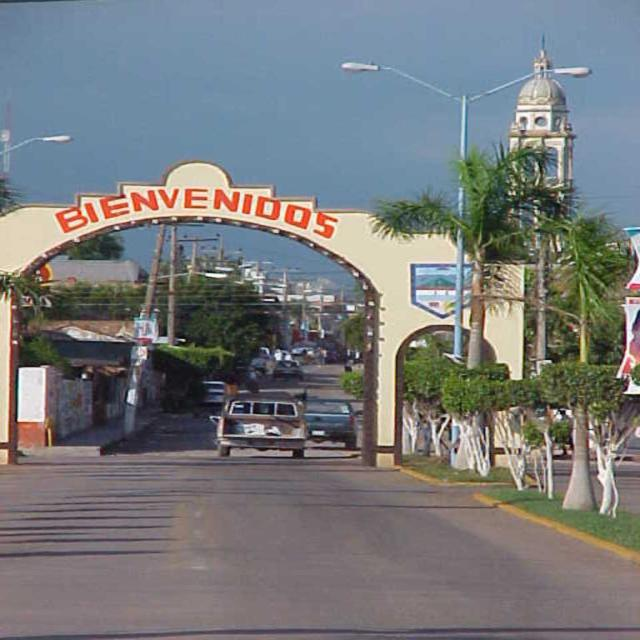car: (209, 397, 307, 457), (272, 358, 300, 378)
